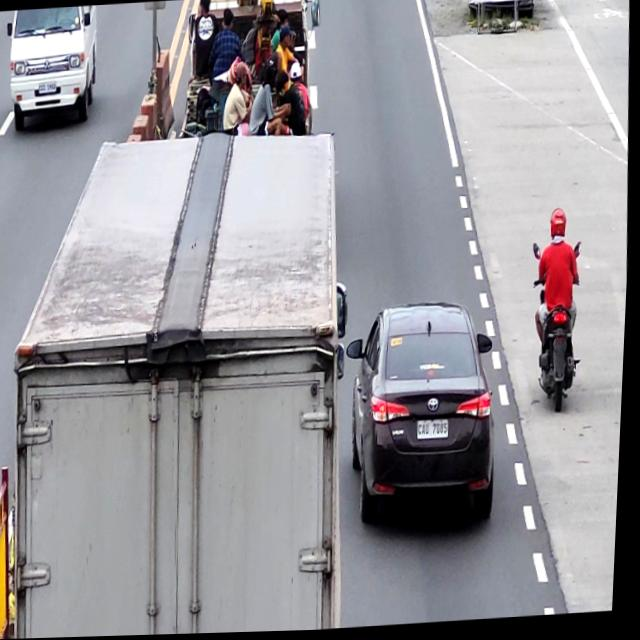Car: (342, 301, 508, 530)
License-Plate: (421, 421, 453, 443)
Motorcycle: (531, 238, 592, 415)
Truck: (0, 129, 370, 640), (175, 0, 326, 145)
